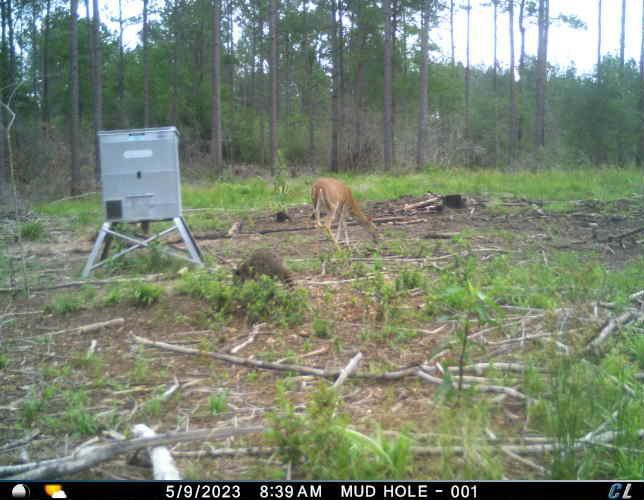Deer: (308, 174, 382, 258)
Raccoon: (231, 245, 301, 294)
